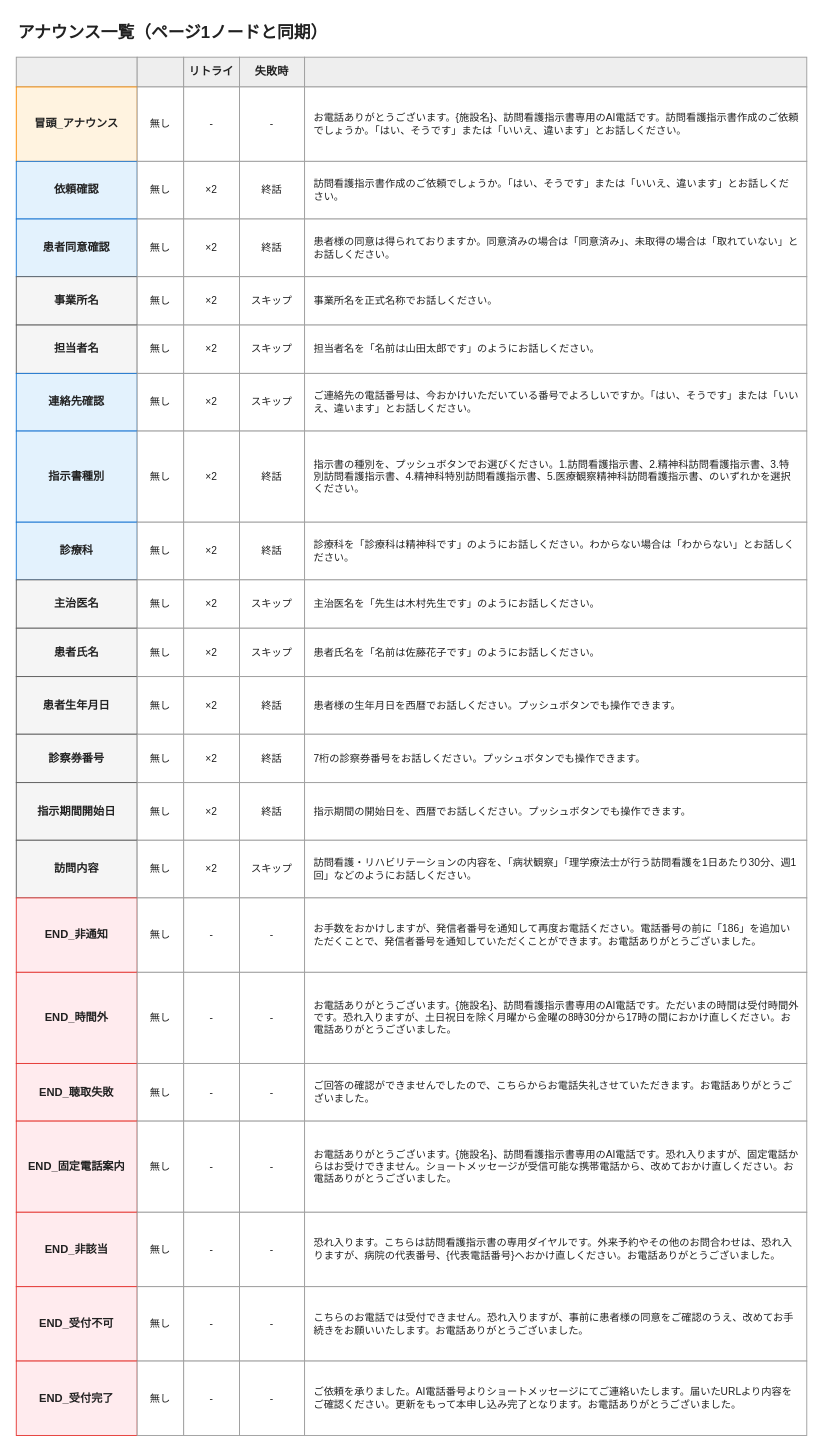
Some shapes in this 823 by 1452 pixel diagram are drawn without their labels. Here are the shapes that lost their labels. From the top down, the centre of each, then its label:
point 76,71: 聴取項目
point 160,71: 復唱
point 555,71: 発話文言
